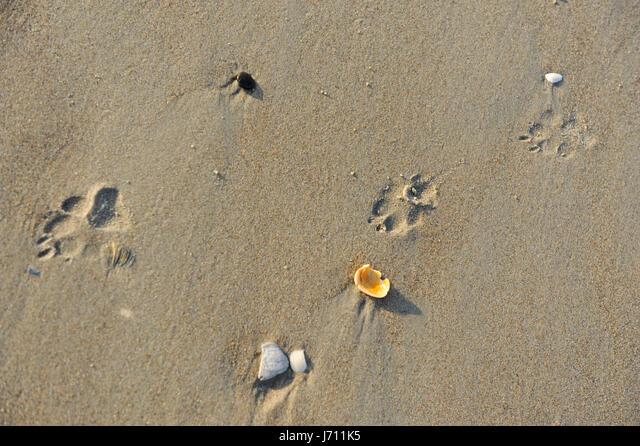chien: (363, 173, 441, 239)
